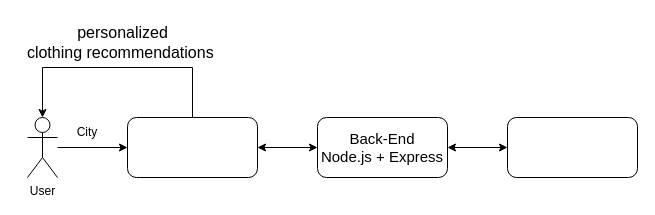
Some shapes in this 655 by 215 pixel diagram are drawn without their labels. The shapes that lost their labels are listed below. From the top down, each one's centre as x and y in pixels, then its label:
At point (192, 147): "Front End Html/Css/JS".
At point (572, 147): "External API OpenWeatherMap".
